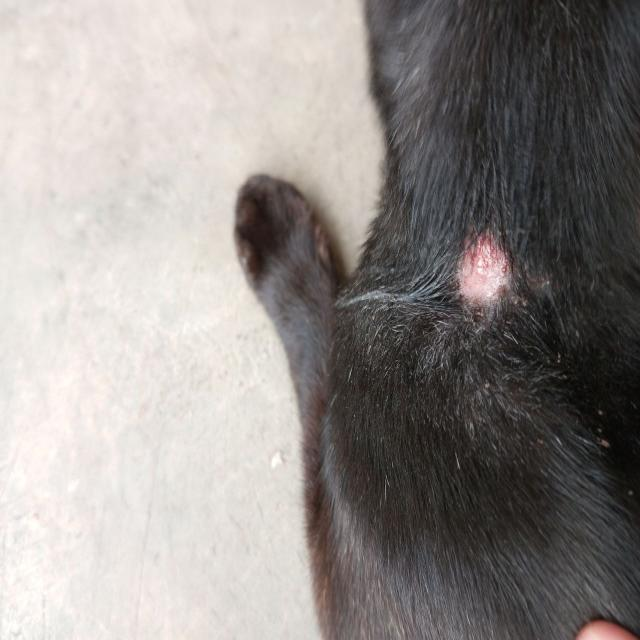hac lao: (422, 209, 540, 342)
